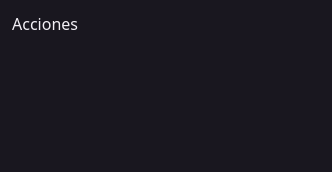
Scenario: Menu › Escape cierra y devuelve el foco al disparador
Step 1. Click the button "Acciones" → (45, 24), box [12,12,78,36]
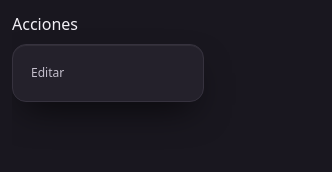
Step 2. Press Escape
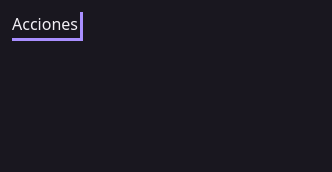
Result: the menu is gone
